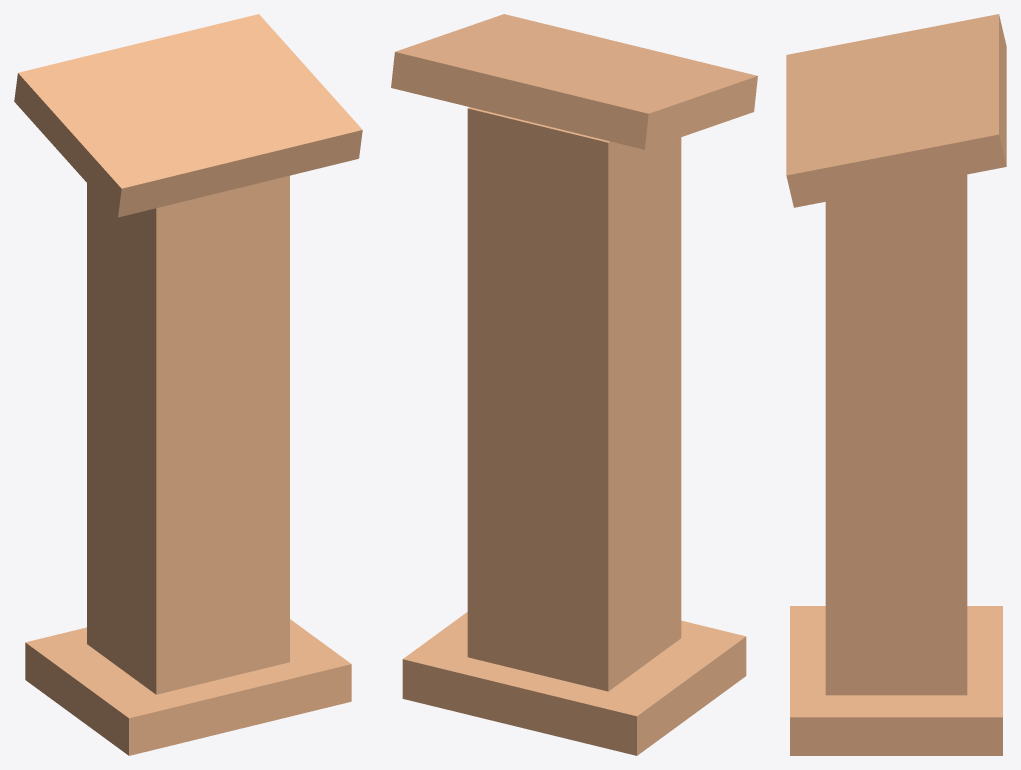
3 views of the same model, side by side, from view 1: azimuth 30°, elevation 25°; view 2: azimuth 150°, elevation 25°; view 3: azimuth 270°, elevation 25° (orthographic). The views are drawn at different scales.
Visible parts, largest first — view 1: Body, Reading top, Foot; view 2: Body, Reading top, Foot; view 3: Body, Reading top, Foot.
Boxes of the visible parts, box(x1,y1,x2,y2) form: Body: box(87, 175, 289, 694); Reading top: box(14, 14, 362, 217); Foot: box(25, 619, 351, 755); Body: box(467, 107, 681, 691); Reading top: box(391, 14, 757, 149); Foot: box(402, 612, 746, 755); Body: box(825, 174, 967, 695); Reading top: box(786, 14, 1006, 207); Foot: box(790, 606, 1002, 755).
Size of the model in its own units: 42.25 by 102 by 32.62.
